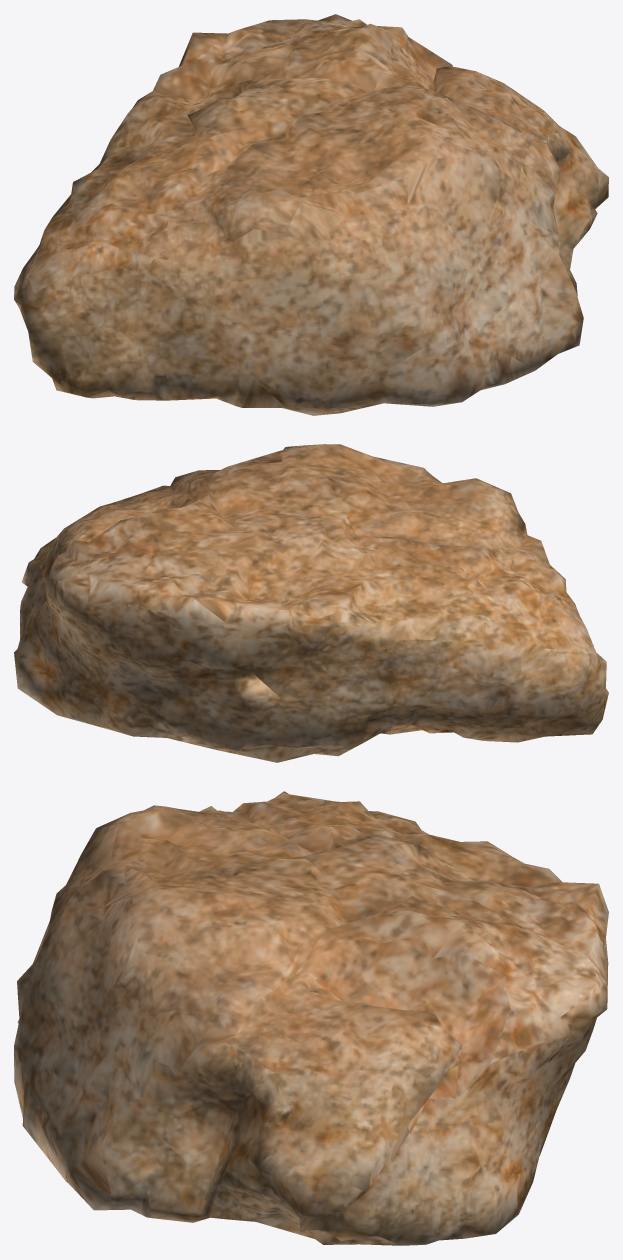
File: nama_stone_b.glb
3 views of the same model, one above another, from view 1: azimuth 30°, elevation 25°; view 2: azimuth 150°, elevation 25°; view 3: azimuth 270°, elevation 25° (orthographic). The views are drawn at different scales.
Visible parts, largest first — view 1: nama_stone_b; view 2: nama_stone_b; view 3: nama_stone_b.
Part boxes in pixels (bbox=[...]): nama_stone_b: bbox=[14, 14, 608, 415]; nama_stone_b: bbox=[14, 444, 608, 762]; nama_stone_b: bbox=[14, 791, 608, 1245].
Bounding box in the file's own units: 1.44 × 0.5478 × 1.07.
Materials: 1 (1 with a texture image).
